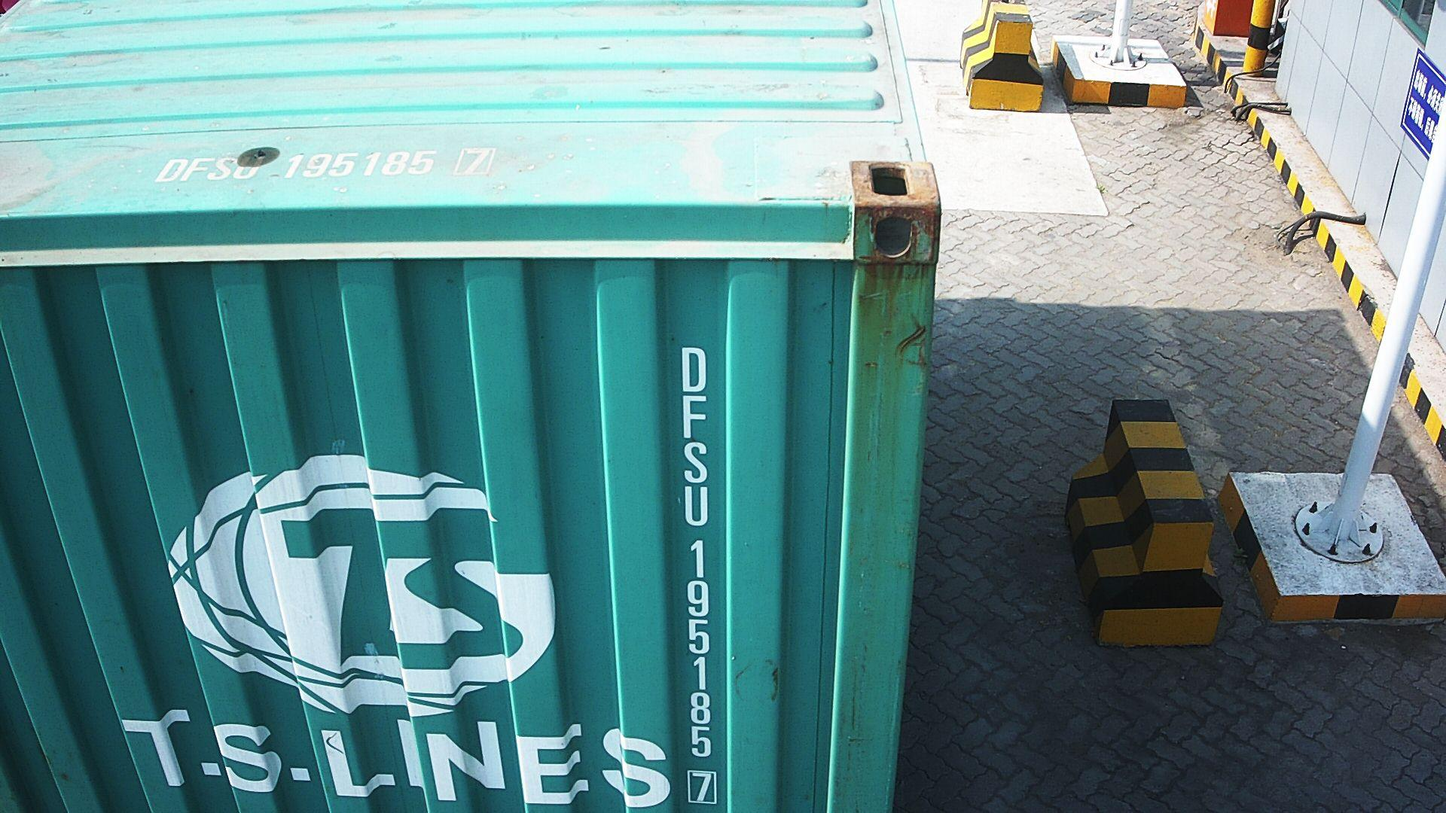container-numbers: (670, 340, 721, 808), (143, 142, 505, 193)
